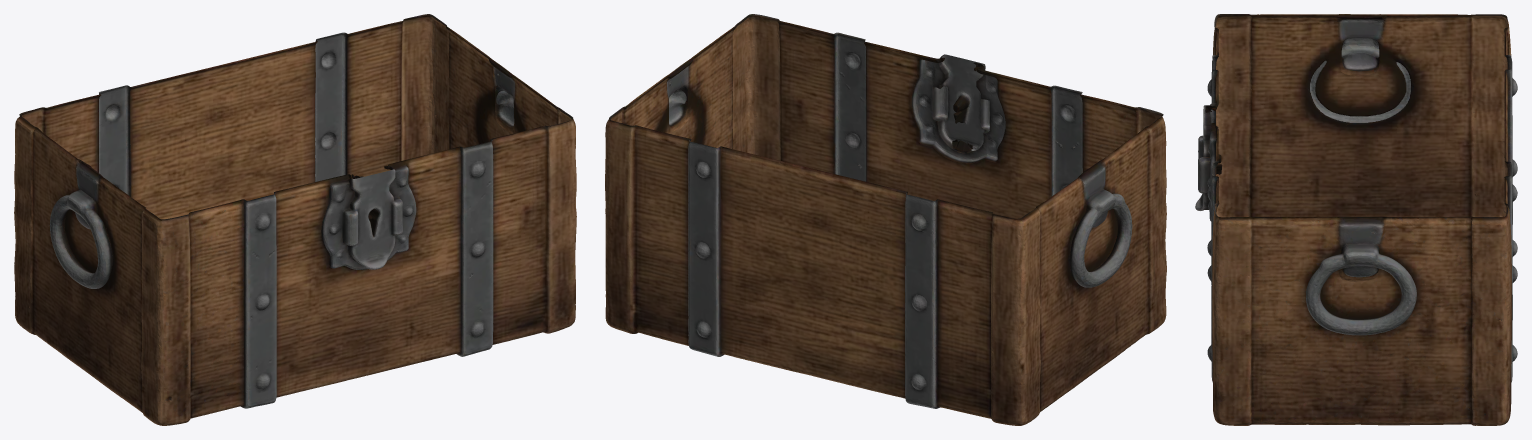
The model's file is body.glb.
The picture shows the model from 3 angles, left to right: view 1: azimuth 30°, elevation 25°; view 2: azimuth 150°, elevation 25°; view 3: azimuth 270°, elevation 25°; orthographic projection.
Parts seen in each view (by area): view 1: source_surface_0; view 2: source_surface_0; view 3: source_surface_0.
Part boxes in pixels (<box>): source_surface_0: <box>14,14,576,425</box>; source_surface_0: <box>605,14,1166,425</box>; source_surface_0: <box>1195,14,1517,425</box>.
Size of the model in its own units: 0.6 by 0.2738 by 0.3729.
1 material, 1 textured.
